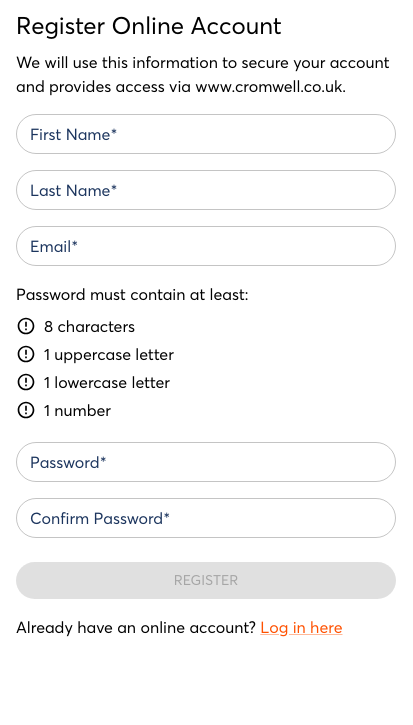
Test: Register Page › should apply validation checks to the form fields
// Touch (focus and blur) the email field to trigger validation
Click the field labelled "Email *": [206, 246] box x1=16 y1=226 x2=396 y2=266
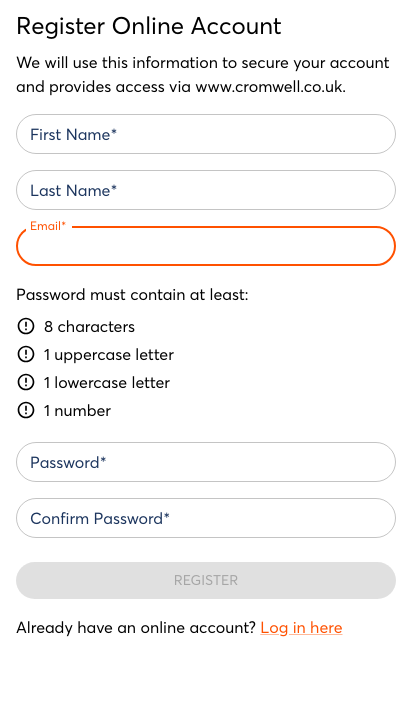
Press Tab
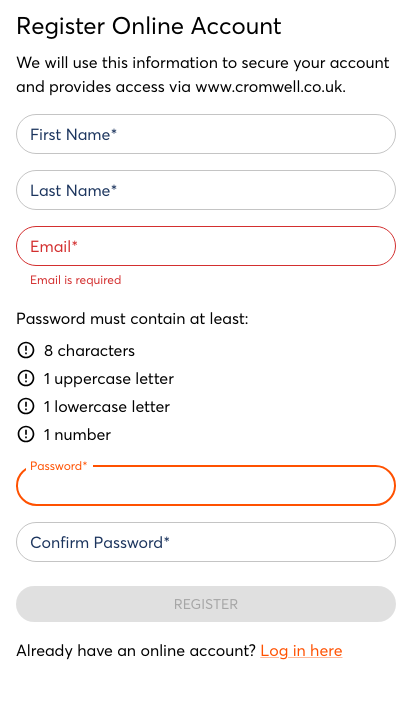
Click the field labelled "First Name *": [206, 134] box x1=16 y1=114 x2=396 y2=154
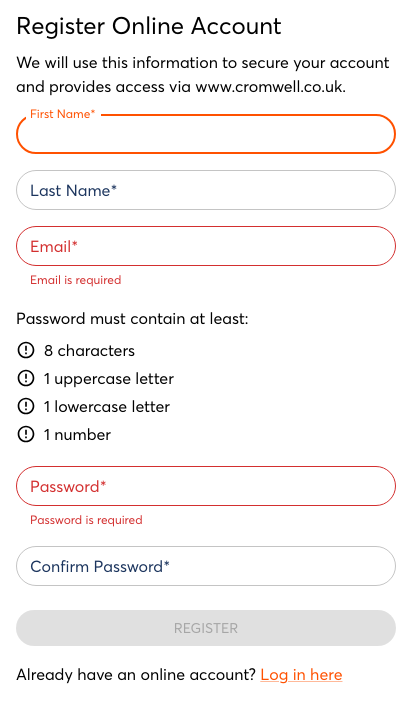
Press Tab
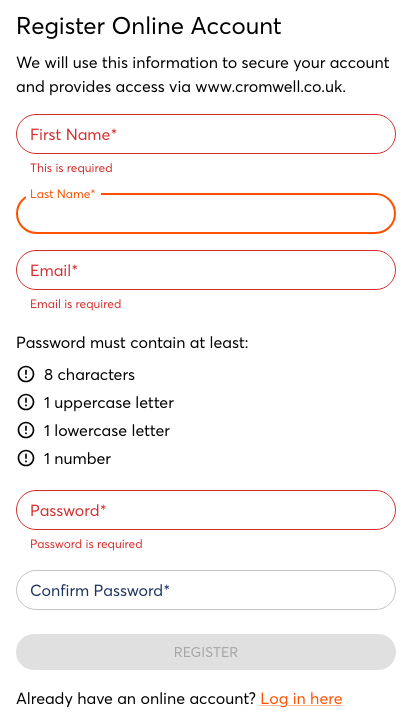
Expected: the text "Email is required" is shown, x1=30 y1=296 x2=121 y2=311
Expected: the text "This is required" is shown, x1=30 y1=160 x2=112 y2=175
